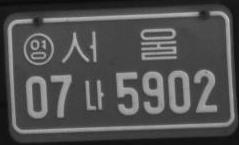0: (166, 69, 191, 115), (24, 75, 48, 120)
2: (193, 68, 218, 113)
5: (114, 71, 140, 116)
7: (50, 73, 73, 119)
9: (141, 70, 165, 115)
나: (84, 78, 104, 112)
서울_D: (61, 27, 177, 64)
영: (23, 32, 54, 66)
